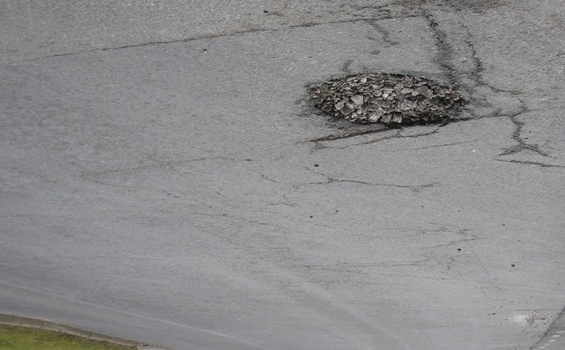pothole: (306, 74, 456, 133)
